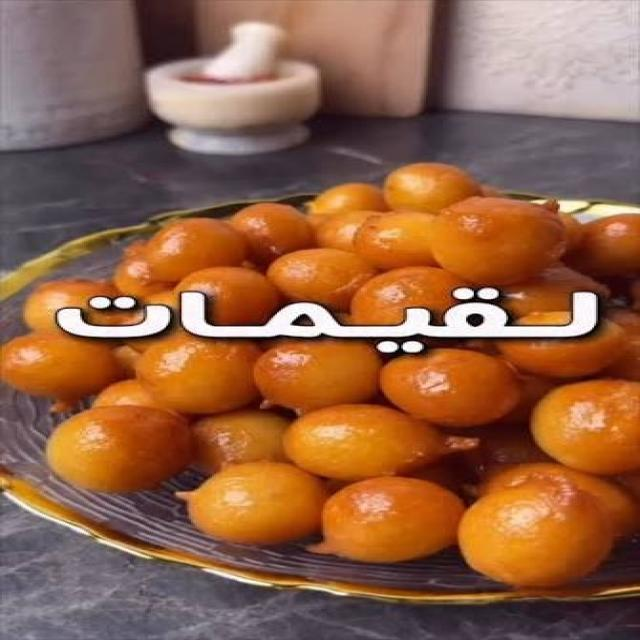Luqaimat: (72, 190, 640, 585)
